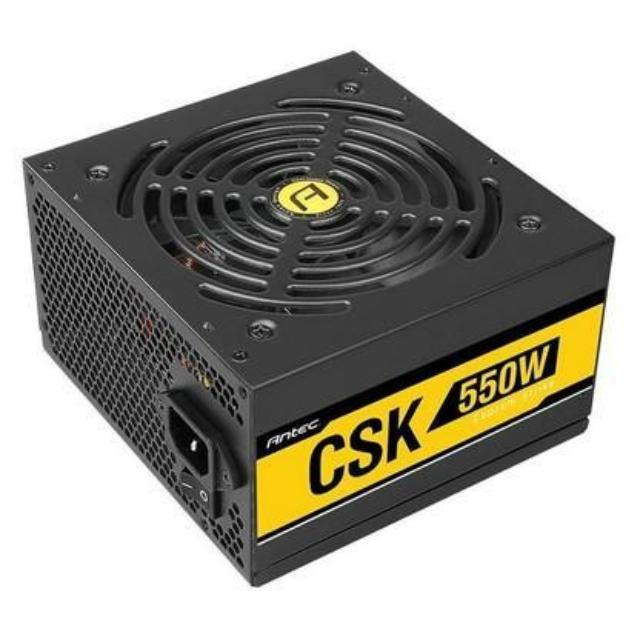PSU: (24, 41, 622, 594)
